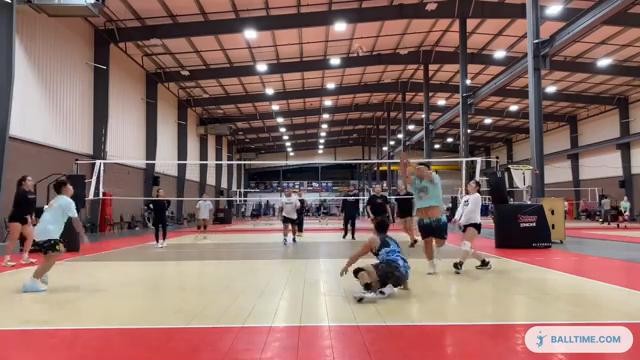difesa: (396, 147, 448, 276)
